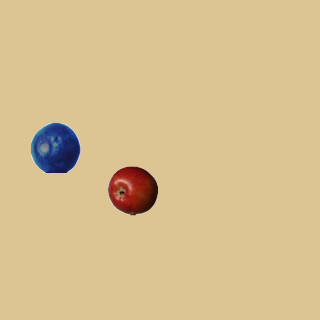Apple Braeburn: (107, 165, 157, 215)
Huckleberry: (30, 122, 80, 172)
